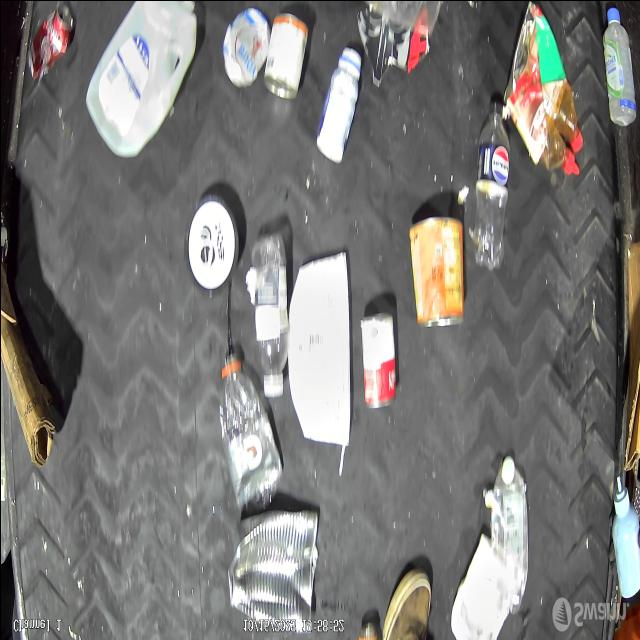can: (224, 506, 318, 636), (408, 206, 466, 336), (260, 2, 311, 102), (25, 0, 75, 90), (358, 307, 398, 413)
milk_jug: (82, 0, 202, 167)
plastic_bottle: (218, 336, 282, 511), (465, 92, 511, 270), (250, 233, 294, 395), (486, 451, 528, 608), (602, 7, 634, 128)
